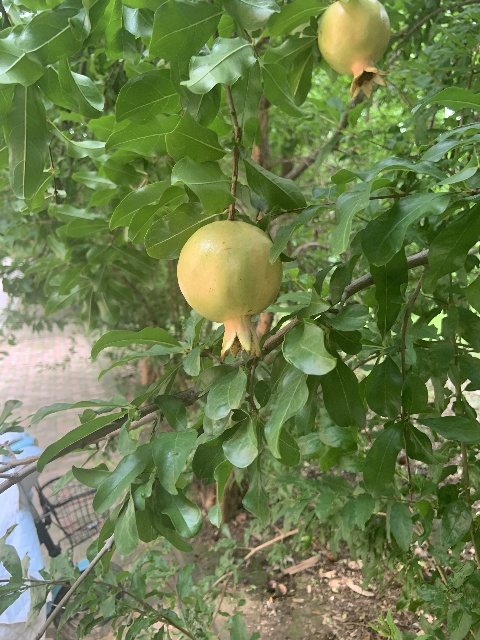mid-growth: (176, 219, 282, 361), (317, 0, 392, 99)
